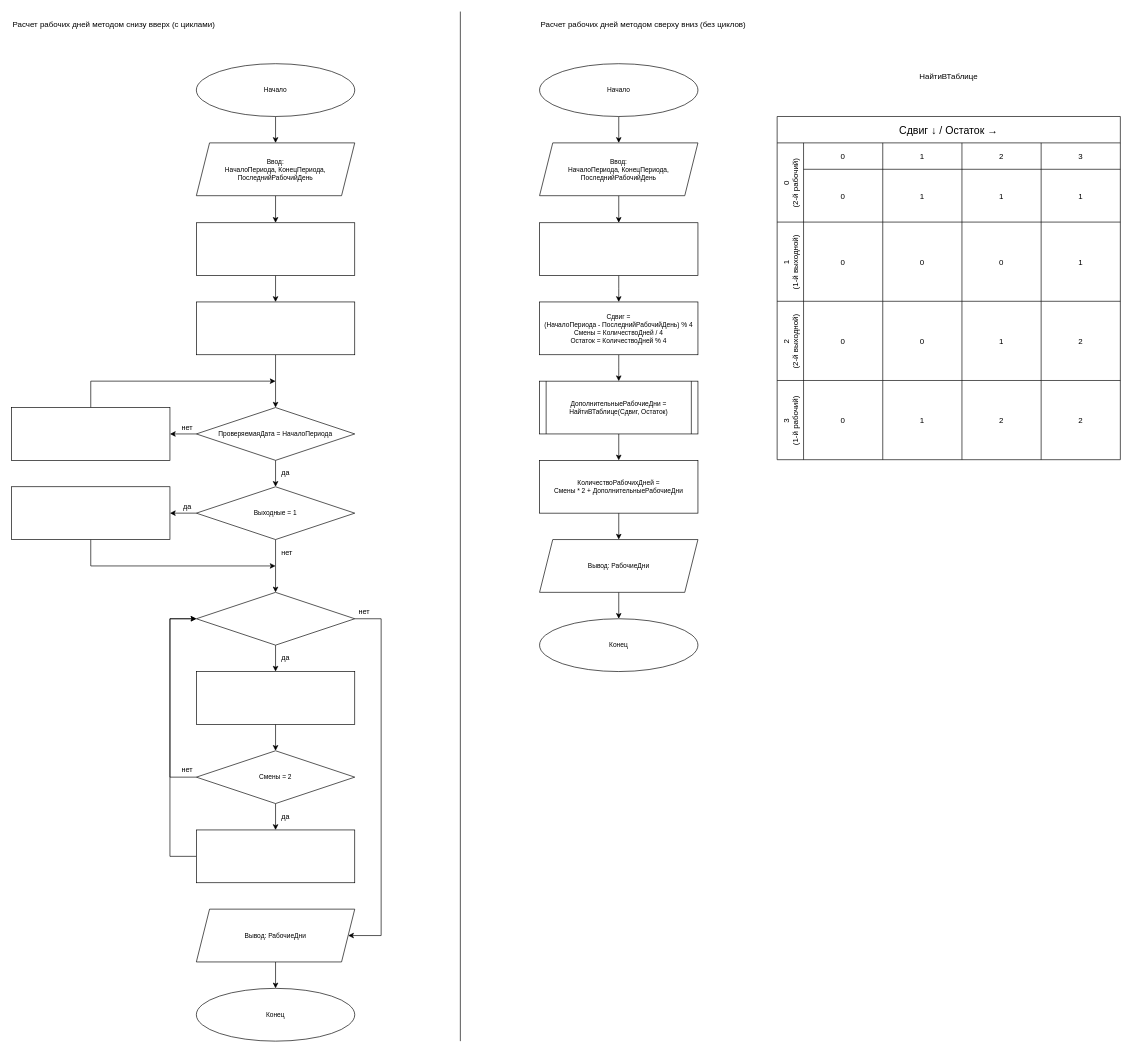
This 1132x1053 diagram has some shape labels left out. The centre of each missing label's shape, as x and y in pixels:
"Выходные += 1 ПроверяемаяДата = СледующаяДата(ПроверяемаяДата)" goes at pixel 90 433.
"ПроверяемаяДата <= КонецПериода" goes at pixel 275 618.
"ПроверяемаяДата = СледующаяДата (ПоследнийРабочийДень)" goes at pixel 275 328.
"ПроверяемаяДата = СледующаяДата(ПроверяемаяДата)" goes at pixel 90 513.
"РабочиеДни = 0 КоличествоДней = КонецПериода - НачалоПериода + 1" goes at pixel 618 249.
"РабочиеДни = 0 Смены = 0 Выходные = 0" goes at pixel 275 249.
"Смены += 1 РабочиеДни += 1 ПроверяемаяДата = СледующаяДата(ПроверяемаяДата)" goes at pixel 275 697.
"Смены = 0 ПроверяемаяДата += 3 дня" goes at pixel 275 856.
